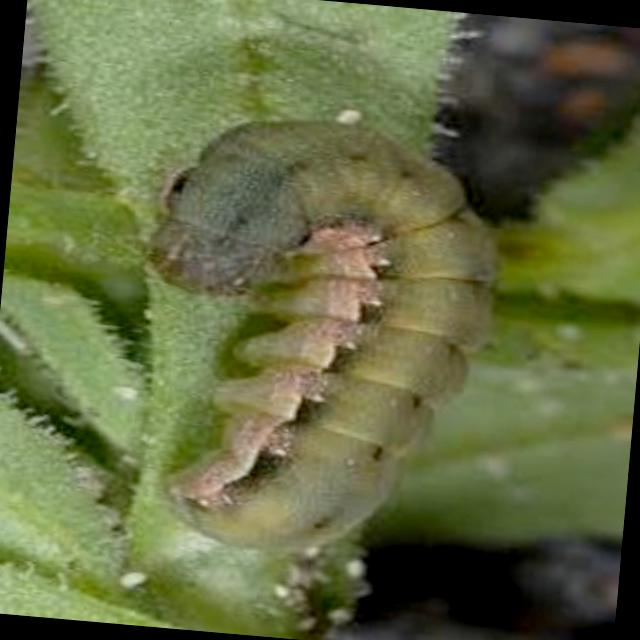Beet armyworm: (67, 63, 532, 608)
